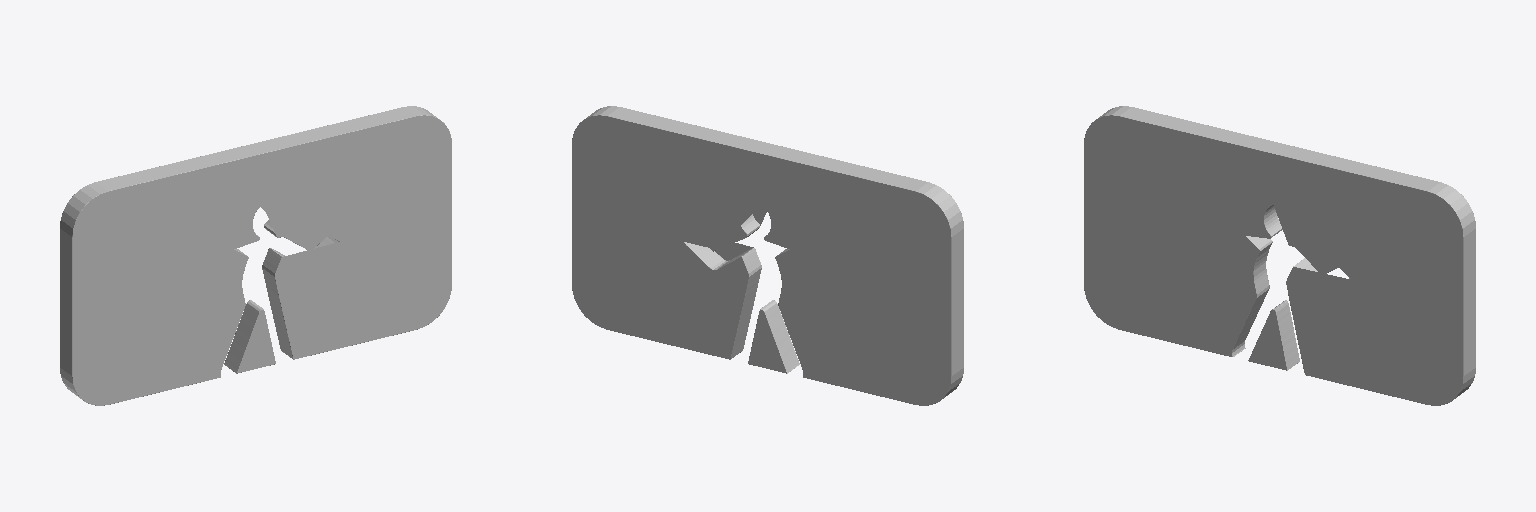
The picture shows the model from 3 angles: view 1: azimuth 30°, elevation 25°; view 2: azimuth 150°, elevation 25°; view 3: azimuth 330°, elevation 25°; orthographic projection.
Visible parts, largest first — view 1: wall_31; view 2: wall_31; view 3: wall_31.
Boxes of the visible parts, x1,y1,x2,y2 form: wall_31: [60, 106, 451, 405]; wall_31: [572, 106, 963, 405]; wall_31: [1084, 106, 1475, 405].
Bounding box in the file's own units: 12 × 6.45 × 0.7.